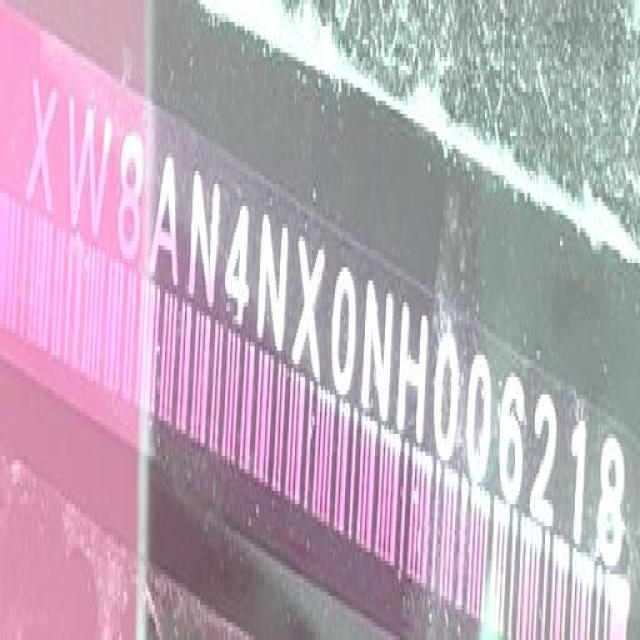0: (329, 255, 359, 407), (431, 320, 462, 466), (464, 347, 492, 491)
1: (570, 408, 590, 556)
2: (529, 385, 558, 533)
4: (223, 194, 253, 328)
6: (500, 360, 525, 518)
8: (598, 430, 629, 578), (115, 124, 147, 266)
A: (147, 148, 183, 296)
H: (395, 292, 431, 448)
N: (187, 162, 224, 314), (361, 278, 396, 430), (257, 208, 293, 355)
W: (63, 89, 114, 244)
X: (23, 71, 58, 223), (294, 231, 327, 379)
